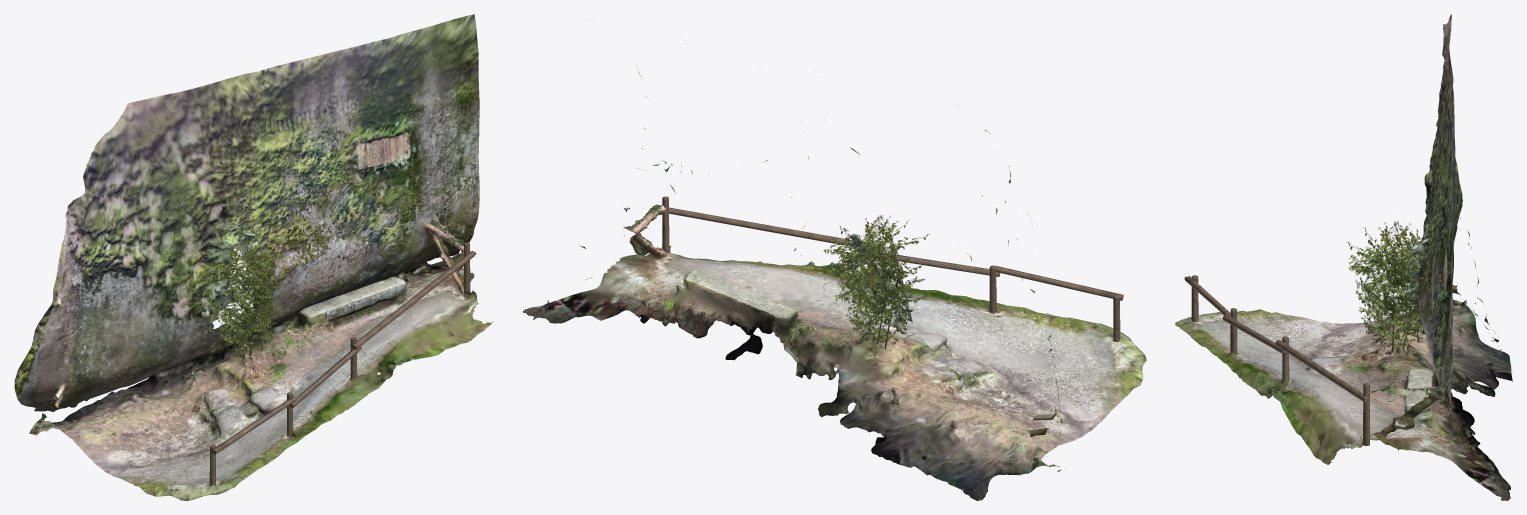
Rendered from Luisensitz_NEU.glb.
3 renders of one model, left to right at view 1: azimuth 30°, elevation 25°; view 2: azimuth 150°, elevation 25°; view 3: azimuth 270°, elevation 25°, orthographic. The views are drawn at different scales.
Parts seen in each view (by area): view 1: New, Plane.003__0, Cylinder; view 2: New, Plane.003__0, Cylinder; view 3: New, Plane.003__0, Cylinder.
Boxes of the visible parts, box(x1,y1,x2,y2) form: New: box(14, 14, 492, 500); Plane.003__0: box(196, 239, 291, 361); Cylinder: box(209, 242, 476, 485); New: box(523, 73, 1146, 500); Plane.003__0: box(823, 215, 929, 349); Cylinder: box(662, 196, 1123, 341); New: box(1175, 14, 1512, 500); Plane.003__0: box(1347, 221, 1425, 353); Cylinder: box(1184, 275, 1369, 445).
Bounding box in the file's own units: 3.88 × 2.59 × 2.16.
Materials: 3 (3 with a texture image).
